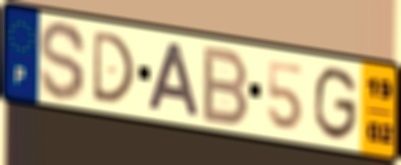5: (264, 57, 305, 133)
A: (145, 40, 203, 120)
B: (199, 43, 252, 129)
D: (90, 29, 137, 106)
G: (311, 65, 360, 144)
S: (38, 19, 89, 104)
